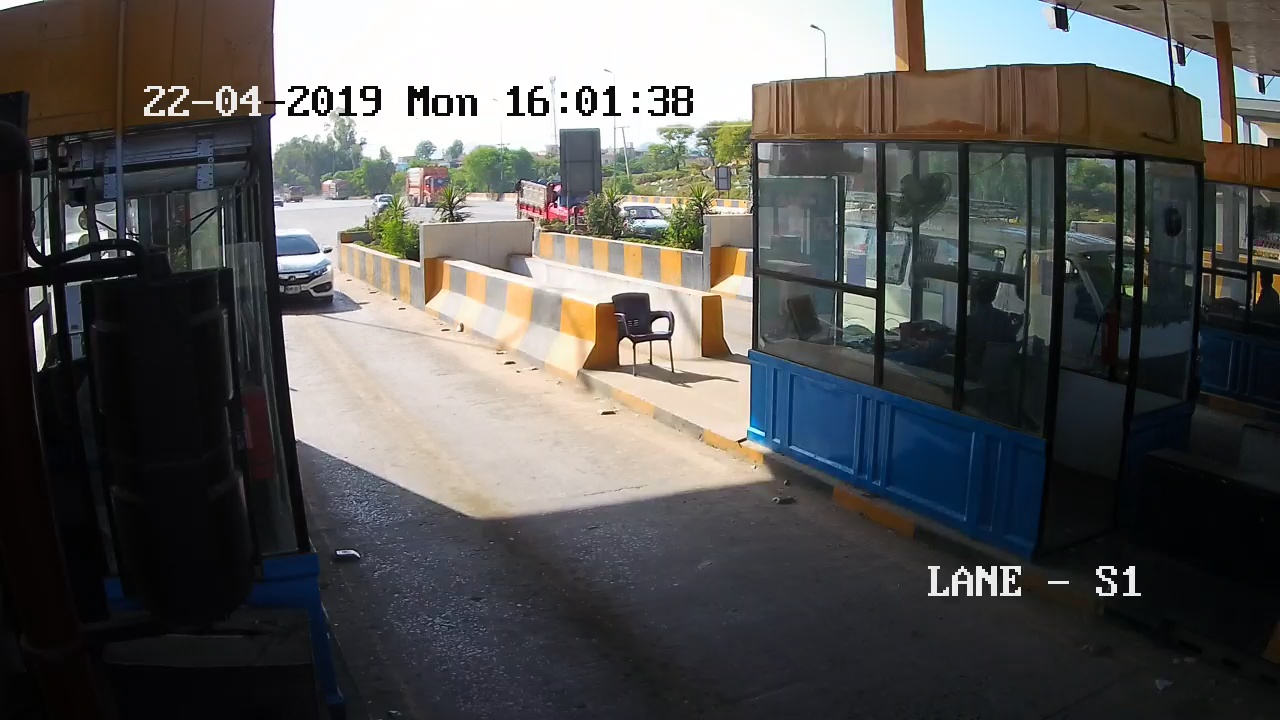car: (275, 226, 347, 328)
